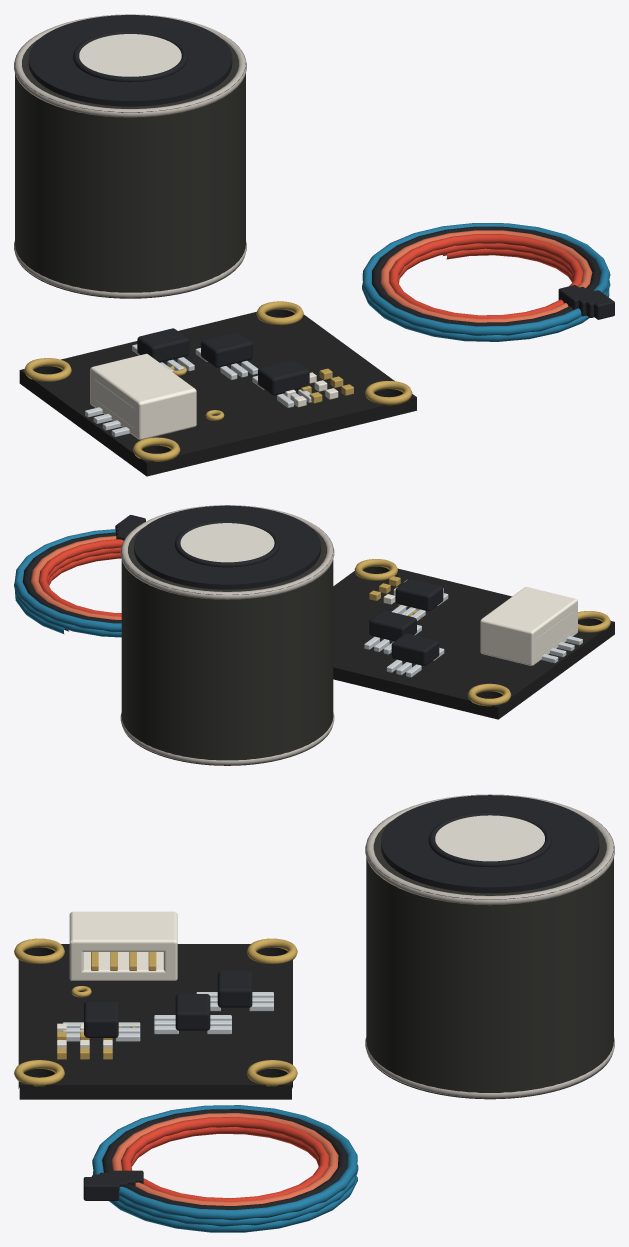
File: sensors-36.glb
3 views of the same model, one above another, from view 1: azimuth 30°, elevation 25°; view 2: azimuth 150°, elevation 25°; view 3: azimuth 270°, elevation 25° (orthographic). The views are drawn at different scales.
Parts seen in each view (by area): view 1: cell, board, wires, sockets, components, membrane, plugs; view 2: cell, board, wires, sockets, components, membrane, plugs; view 3: cell, board, wires, sockets, components, membrane, plugs.
Boxes of the visible parts, x1,y1,x2,y2 form: cell: [14, 14, 246, 298]; board: [19, 301, 416, 476]; wires: [362, 223, 610, 341]; sockets: [85, 353, 196, 439]; components: [132, 328, 353, 407]; membrane: [73, 31, 187, 82]; plugs: [558, 285, 614, 319]; cell: [120, 505, 334, 765]; board: [333, 559, 614, 719]; wires: [14, 529, 123, 637]; sockets: [480, 587, 582, 665]; components: [364, 576, 448, 677]; membrane: [174, 520, 280, 567]; plugs: [115, 515, 145, 540]; cell: [365, 794, 614, 1099]; board: [14, 938, 297, 1099]; wires: [92, 1105, 358, 1232]; sockets: [69, 911, 177, 980]; components: [57, 971, 273, 1059]; membrane: [428, 812, 551, 867]; plugs: [83, 1170, 143, 1200].
Size of the model in its own units: 2.72 by 1.02 by 2.43.
